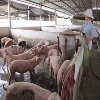heo: (2, 81, 59, 100), (7, 55, 43, 81), (45, 55, 61, 72), (39, 43, 60, 55), (54, 66, 65, 87), (7, 44, 23, 53), (1, 36, 14, 46)
